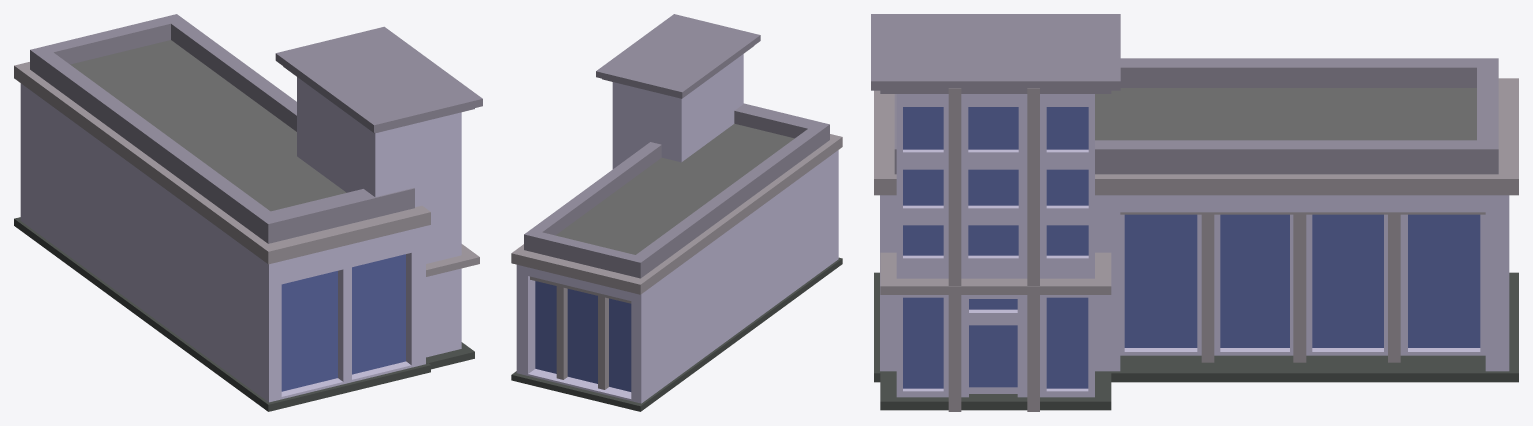
The model's file is OFFICE.fbx.
The picture shows the model from 3 angles, left to right: view 1: azimuth 30°, elevation 25°; view 2: azimuth 150°, elevation 25°; view 3: azimuth 270°, elevation 25°; orthographic projection. The views are drawn at different scales.
Visible parts, largest first — view 1: Cube.001, Cube.008, Cube, Cube.005, Cube.017, Cube.009, Cube.003, Cube.002; view 2: Cube.001, Cube.008, Cube, Cube.005, Cube.017, Cube.009, Cube.014, Cube.015, Cube.016; view 3: Cube.001, Cube, Cube.008, Cube.005, Cube.017, Cube.009, Cube.003, Cube.006, Cube.007, Cube.002, Cube.011, Cube.010 (+3 smaller).
Boxes of the visible parts, left/top/right/bottom form: Cube.001: left=20, top=83, right=425, bottom=402; Cube.008: left=30, top=14, right=414, bottom=243; Cube: left=297, top=77, right=461, bottom=357; Cube.005: left=275, top=26, right=482, bottom=132; Cube.017: left=14, top=62, right=430, bottom=264; Cube.009: left=14, top=217, right=430, bottom=411; Cube.003: left=426, top=244, right=479, bottom=276; Cube.002: left=426, top=342, right=474, bottom=369; Cube.001: left=516, top=150, right=838, bottom=403; Cube.008: left=524, top=103, right=829, bottom=278; Cube: left=612, top=54, right=743, bottom=168; Cube.005: left=596, top=14, right=760, bottom=97; Cube.017: left=511, top=134, right=842, bottom=294; Cube.009: left=511, top=257, right=842, bottom=411; Cube.014: left=556, top=286, right=567, bottom=379; Cube.015: left=598, top=296, right=608, bottom=389; Cube.016: left=530, top=276, right=631, bottom=303; Cube.001: left=880, top=195, right=1509, bottom=371; Cube: left=896, top=94, right=1094, bottom=397; Cube.008: left=894, top=58, right=1498, bottom=174; Cube.005: left=871, top=14, right=1120, bottom=90; Cube.017: left=874, top=78, right=1518, bottom=195; Cube.009: left=874, top=272, right=1518, bottom=382; Cube.003: left=880, top=252, right=1111, bottom=294; Cube.006: left=948, top=88, right=961, bottom=411; Cube.007: left=1027, top=88, right=1039, bottom=411; Cube.002: left=880, top=371, right=1111, bottom=410; Cube.011: left=1293, top=214, right=1306, bottom=362; Cube.010: left=1201, top=214, right=1214, bottom=362.
Bounding box in the file's own units: 1058 × 1238 × 2189.
